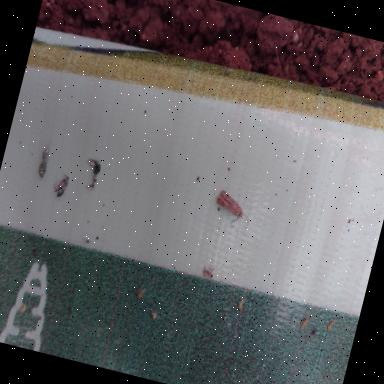pbw: (211, 188, 257, 230)
